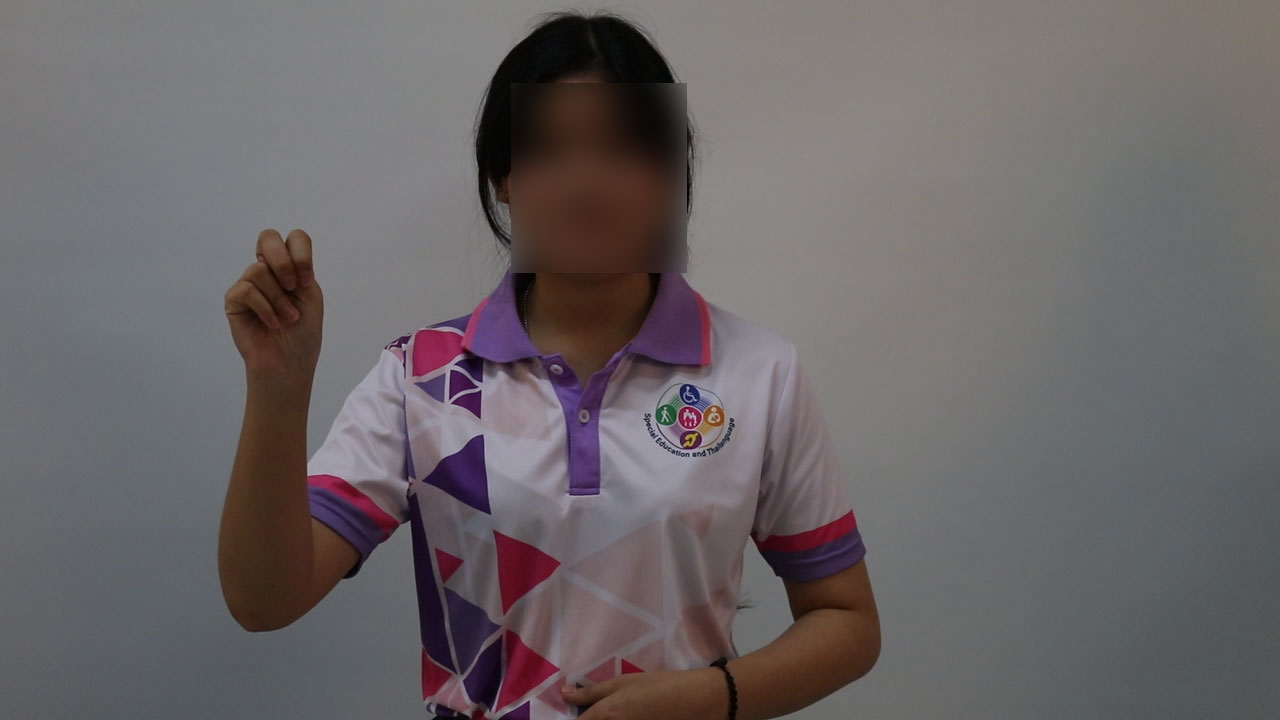nor: (220, 221, 335, 404)
